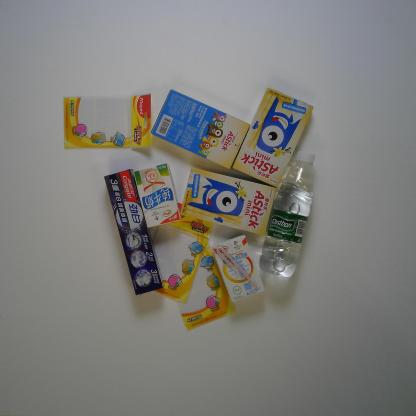Dessert: (232, 87, 314, 188), (150, 89, 250, 170), (179, 167, 277, 235)
Drink: (259, 149, 316, 279)
Milk: (212, 234, 265, 303), (134, 162, 181, 228)
Personal Hygiene: (104, 168, 165, 296)
Stationery: (144, 201, 214, 304), (173, 233, 236, 330), (62, 93, 153, 148)
